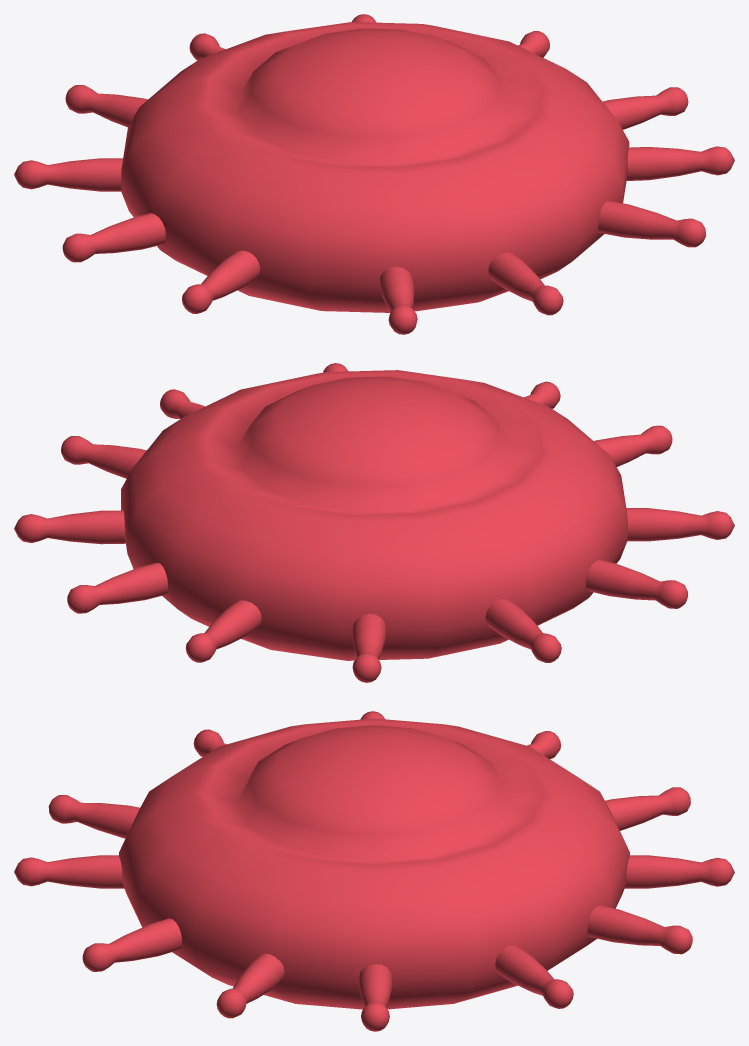
File: airship.fbx
3 views of the same model, one above another, from view 1: azimuth 30°, elevation 25°; view 2: azimuth 150°, elevation 25°; view 3: azimuth 270°, elevation 25° (orthographic).
Visible parts, largest first — view 1: Cylinder.012; view 2: Cylinder.012; view 3: Cylinder.012.
Boxes of the visible parts, bbox=[...] form: Cylinder.012: bbox=[14, 14, 734, 334]; Cylinder.012: bbox=[14, 363, 734, 682]; Cylinder.012: bbox=[14, 711, 734, 1031].
Bounding box in the file's own units: 348 × 93.04 × 348.
